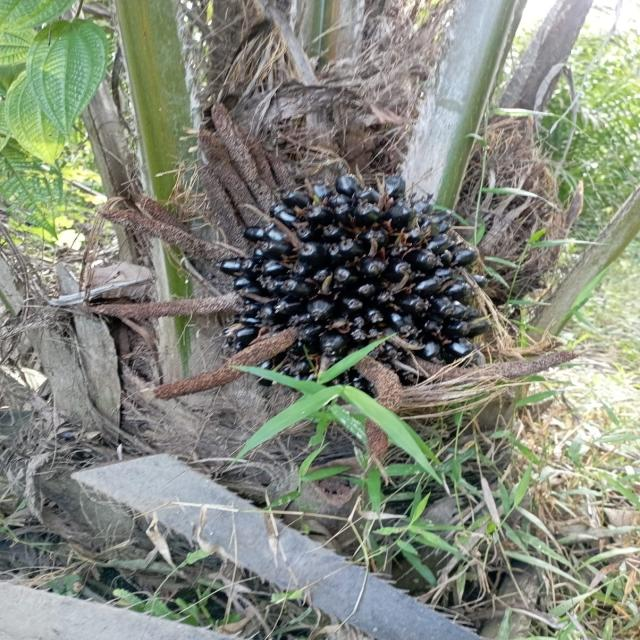fraksi 00: (195, 117, 519, 428)
